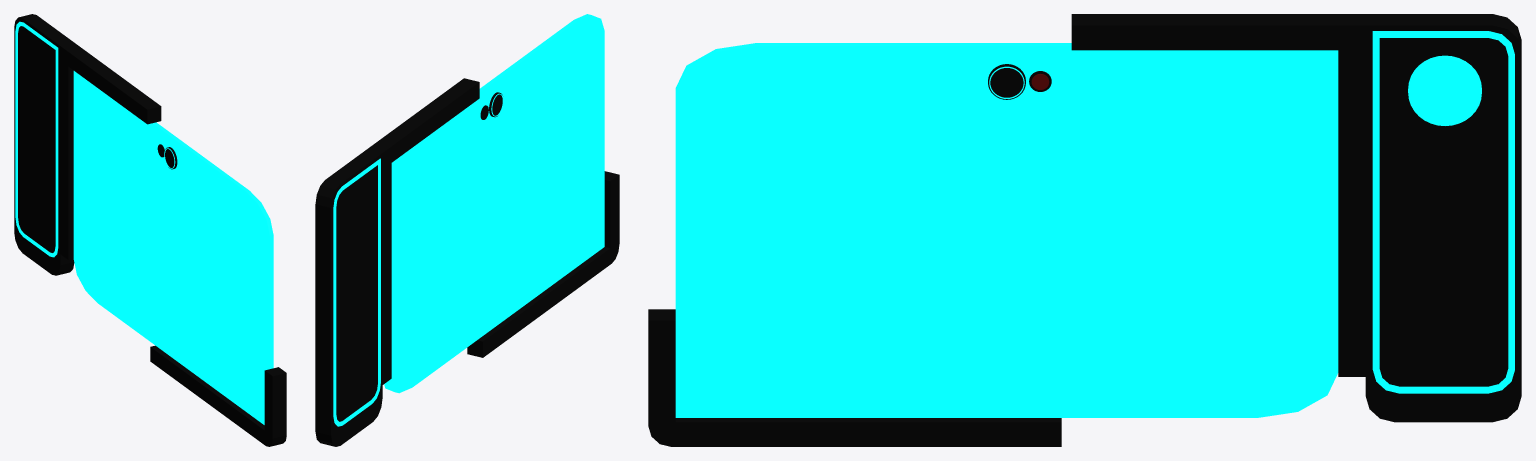
The model's file is FutureCam1.fbx.
3 views of the same model, side by side, from view 1: azimuth 30°, elevation 25°; view 2: azimuth 150°, elevation 25°; view 3: azimuth 270°, elevation 25° (orthographic). The views are drawn at different scales.
Parts seen in each view (by area): view 1: Cube, Cube.002, Cube.004, Cube.003; view 2: Cube, Cube.002, Cube.004, Cube.003; view 3: Cube, Cube.002, Cube.004, Cube.003, Cylinder.002, Cylinder.
Boxes of the visible parts, left/top/right/bottom form: Cube: left=73, top=71, right=273, bottom=424; Cube.002: left=14, top=14, right=161, bottom=275; Cube.004: left=150, top=345, right=286, bottom=446; Cube.003: left=15, top=21, right=58, bottom=257; Cube: left=384, top=14, right=604, bottom=393; Cube.002: left=315, top=78, right=479, bottom=446; Cube.004: left=467, top=171, right=619, bottom=357; Cube.003: left=333, top=158, right=380, bottom=426; Cube: left=675, top=43, right=1338, bottom=417; Cube.002: left=1071, top=14, right=1521, bottom=422; Cube.004: left=648, top=309, right=1061, bottom=446; Cube.003: left=1372, top=31, right=1514, bottom=393; Cylinder.002: left=1408, top=55, right=1481, bottom=125; Cylinder: left=988, top=64, right=1025, bottom=99.
Bounding box in the file's own units: 11.32 × 140 × 264.
